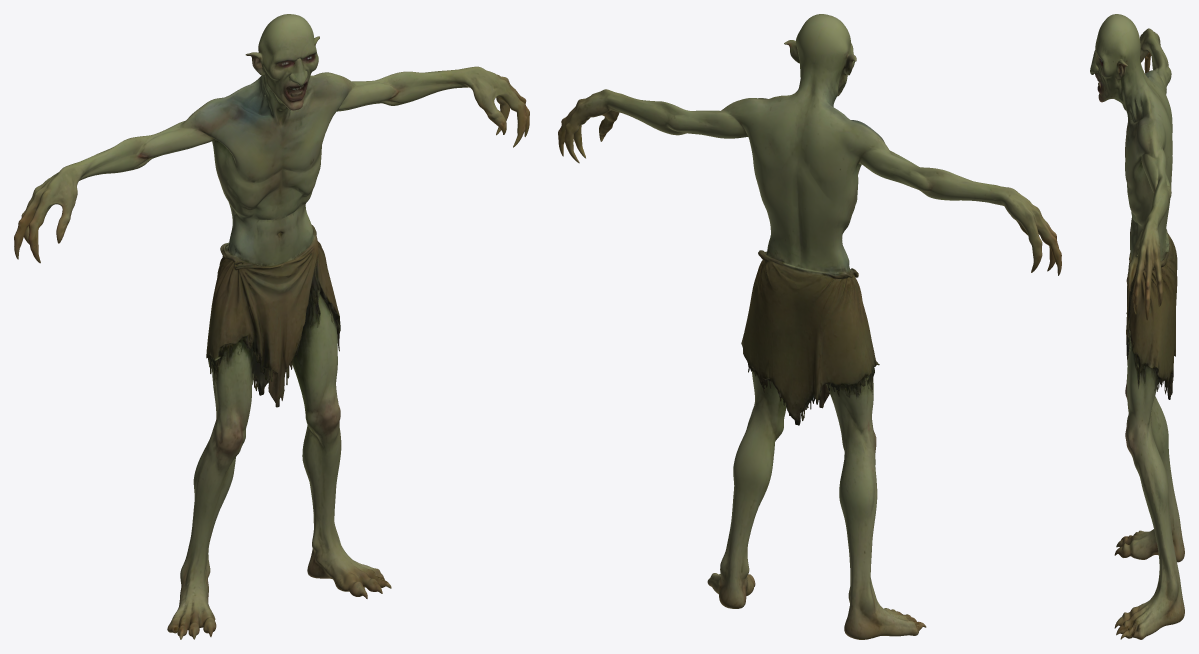
The model's file is placeholder-monster.glb.
3 views of the same model, side by side, from view 1: azimuth 30°, elevation 25°; view 2: azimuth 150°, elevation 25°; view 3: azimuth 270°, elevation 25° (orthographic). The views are drawn at different scales.
Parts seen in each view (by area): view 1: material; view 2: material; view 3: material.
Part boxes in pixels (x1,y1,x2,y2): material: (14, 14, 529, 639); material: (558, 14, 1061, 639); material: (1090, 14, 1184, 639).
Bounding box in the file's own units: 1.78 × 1.98 × 0.2962.
1 material, 1 textured.
